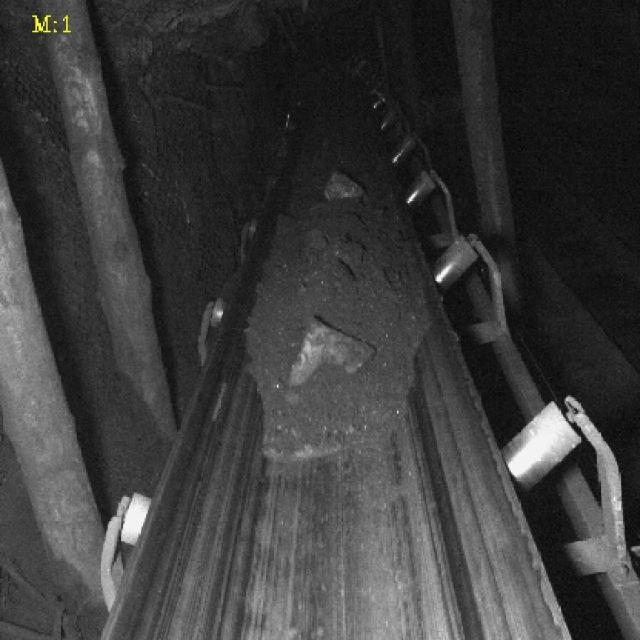large_sized_coal: (283, 316, 379, 390), (322, 169, 363, 202)
